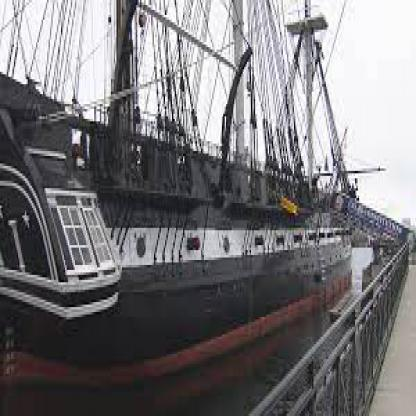Constitution: (1, 32, 392, 399)
